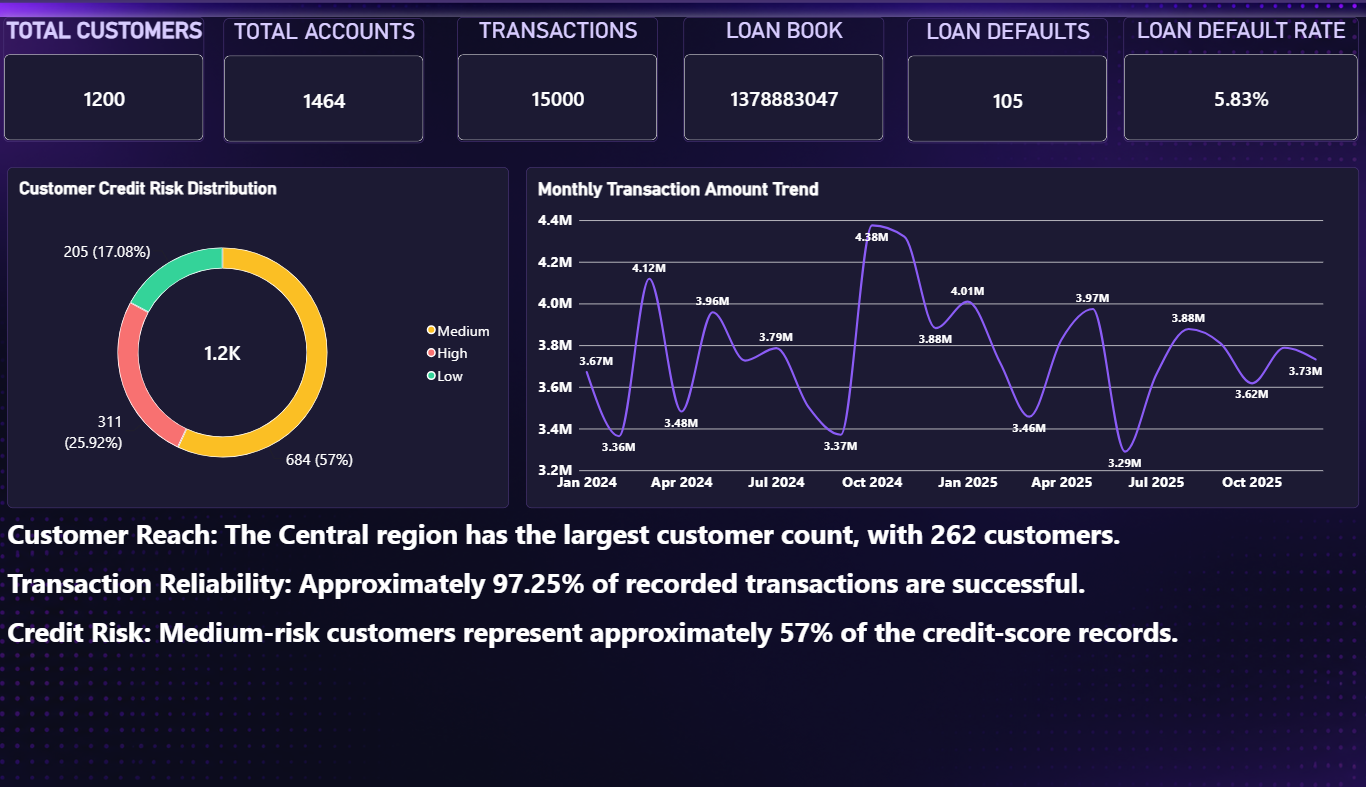

The dashboard page shown, as its layout file describes it:
{"tool":"powerbi","page":{"name":"EXECUTIVE OVERVIEW","canvas":[1920,1080],"ordinal":4},"visuals":[{"type":"cardVisual","title":"TOTAL CUSTOMERS","fields":{"Data":["Count(customers.Customer_ID)"]},"box":[10,0,280,174],"z":0},{"type":"cardVisual","title":"TOTAL ACCOUNTS","fields":{"Data":["Count(accounts.Account_ID)"]},"box":[318,2,280,174],"z":1000},{"type":"cardVisual","title":"TRANSACTIONS","fields":{"Data":["Count(transaction.Transaction_ID)"]},"box":[644,0,280,174],"z":2000},{"type":"cardVisual","title":"LOAN BOOK ","fields":{"Data":["Sum(loans.Outstanding_Amount_INR)"]},"box":[960,0,280,174],"z":3000},{"type":"cardVisual","title":"LOAN DEFAULTS","fields":{"Data":["Sum(loans.Default_Flag)"]},"box":[1272,2,280,174],"z":4000},{"type":"cardVisual","title":"LOAN DEFAULT RATE","fields":{"Data":["loans.Loan Default Rate"]},"box":[1574,0,328,174],"z":5000},{"type":"donutChart","title":"Customer Credit Risk Distribution","fields":{"Category":["creditscore.Risk_Category"],"Y":["CountNonNull(creditscore.Customer_ID)"]},"box":[16,210,700,476],"z":5001},{"type":"lineChart","title":"Monthly Transaction Amount Trend","fields":{"Category":["transaction.Transaction_Date.Variation.Date Hierarchy.Year","transaction.Transaction_Date.Variation.Date Hierarchy.Month"],"Y":["Sum(transaction.Amount_INR)"]},"box":[740,210,1162,476],"z":5002},{"type":"textbox","box":[16,696,1748,244],"z":5003}]}

Visuals, with their boxes in screenshot pixels (x1, y1, x2, y2), scaled from the page's 1920x1080 canvas onto the 1366x787 screenshot:
"TOTAL CUSTOMERS" cardVisual: Rect(7, 0, 206, 127)
"TOTAL ACCOUNTS" cardVisual: Rect(226, 1, 425, 128)
"TRANSACTIONS" cardVisual: Rect(458, 0, 657, 127)
"LOAN BOOK " cardVisual: Rect(683, 0, 882, 127)
"LOAN DEFAULTS" cardVisual: Rect(905, 1, 1104, 128)
"LOAN DEFAULT RATE" cardVisual: Rect(1120, 0, 1353, 127)
"Customer Credit Risk Distribution" donutChart: Rect(11, 153, 509, 500)
"Monthly Transaction Amount Trend" lineChart: Rect(526, 153, 1353, 500)
textbox: Rect(11, 507, 1255, 685)
